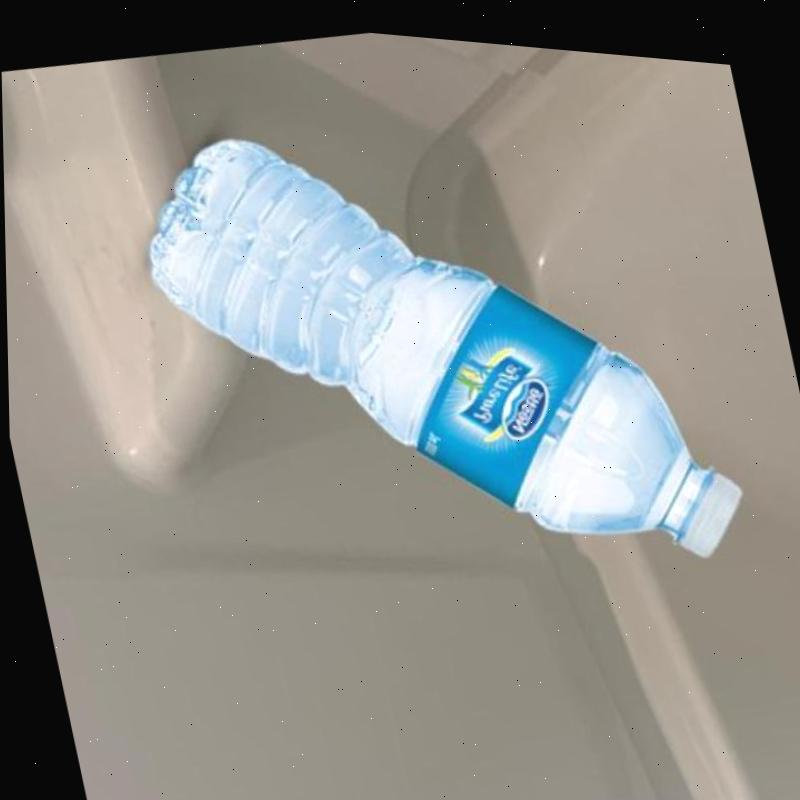botella: (122, 38, 755, 645)
